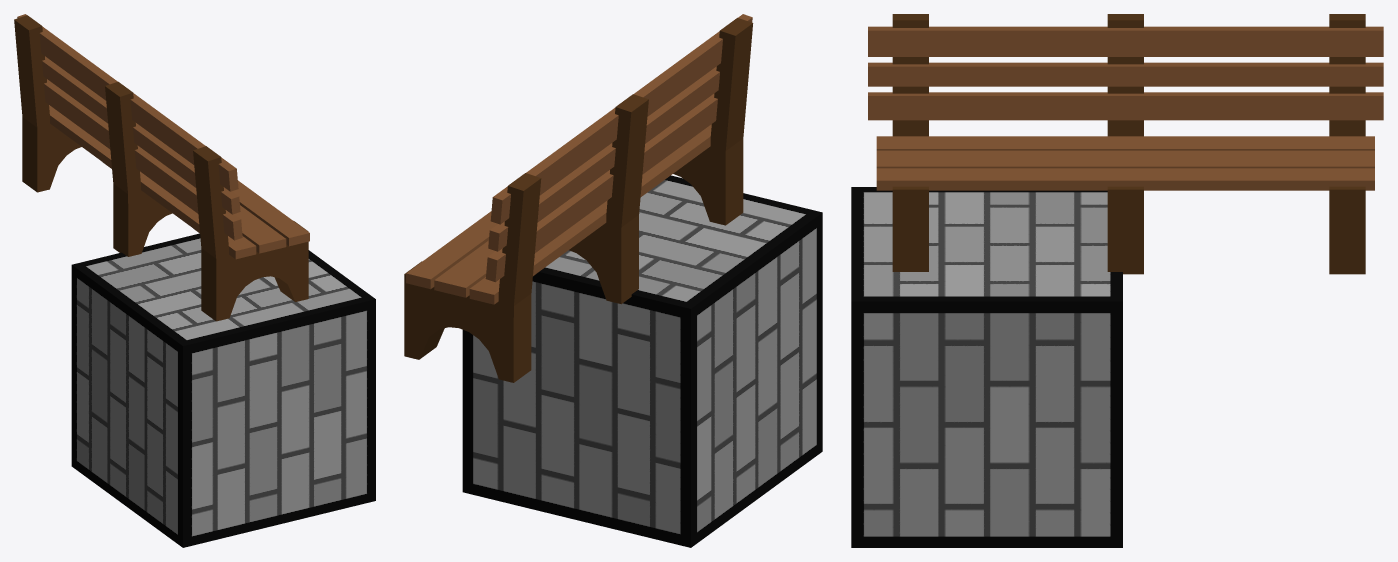
File: SimpleBench.glb
The picture shows the model from 3 angles, left to right: view 1: azimuth 30°, elevation 25°; view 2: azimuth 150°, elevation 25°; view 3: azimuth 270°, elevation 25°; orthographic projection. The views are drawn at different scales.
Parts seen in each view (by area): view 1: StoneBricksBaked; view 2: StoneBricksBaked; view 3: StoneBricksBaked.
Boxes of the visible parts, x1=… form: StoneBricksBaked: x1=14, y1=14, x2=375, y2=547; StoneBricksBaked: x1=404, y1=14, x2=822, y2=547; StoneBricksBaked: x1=851, y1=14, x2=1383, y2=547.
Size of the model in its own units: 0.98 by 1.77 by 1.92.
3 materials, 1 textured.
